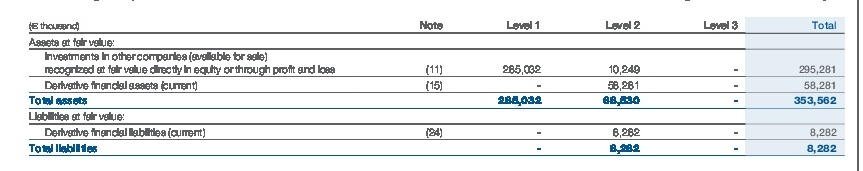table: (0, 0, 863, 171)
